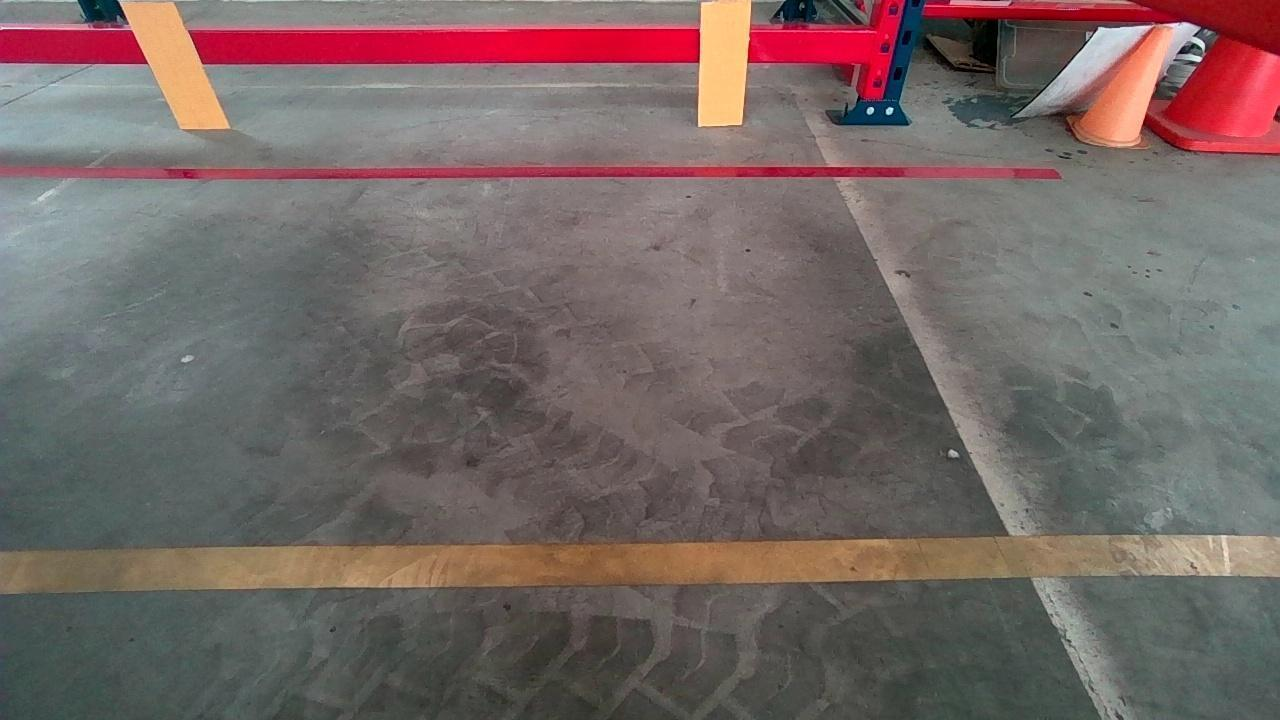red_line: (2, 157, 1061, 181)
yellow_line: (0, 532, 1274, 593)
